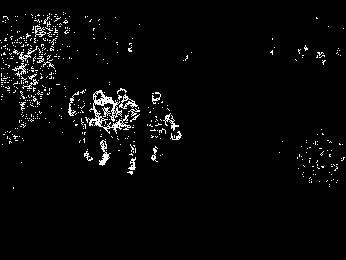person: (85, 89, 140, 175), (145, 90, 184, 164), (91, 87, 122, 166)
